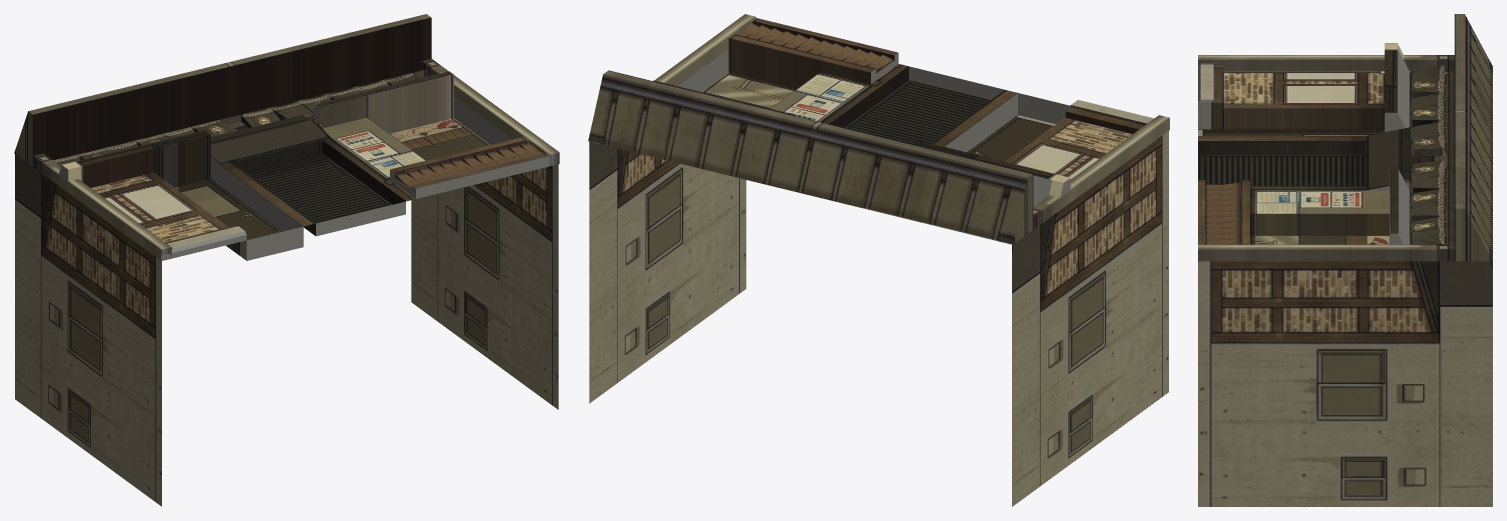
3 views of the same model, side by side, from view 1: azimuth 30°, elevation 25°; view 2: azimuth 150°, elevation 25°; view 3: azimuth 270°, elevation 25° (orthographic). The views are drawn at different scales.
Visible parts, largest first — view 1: Plane.020, Plane, Plane.019, Plane.001, Plane.005, Plane.004, Plane.003, Plane.002; view 2: Plane.020, Plane.001, Plane.019, Plane, Plane.005, Plane.003, Plane.002; view 3: Plane.019, Plane, Plane.005, Plane.001, Plane.004, Plane.002, Plane.003.
Boxes of the visible parts, x1,y1,x2,y2 form: Plane.020: [15, 154, 161, 506]; Plane: [59, 71, 549, 260]; Plane.019: [411, 164, 558, 409]; Plane.001: [14, 14, 431, 166]; Plane.005: [210, 113, 415, 236]; Plane.004: [53, 69, 426, 165]; Plane.003: [33, 153, 171, 260]; Plane.002: [421, 58, 559, 166]; Plane.020: [1012, 131, 1168, 506]; Plane.001: [588, 70, 1033, 244]; Plane.019: [589, 141, 746, 403]; Plane: [653, 18, 1153, 206]; Plane.005: [819, 64, 1017, 146]; Plane.003: [1033, 115, 1169, 229]; Plane.002: [654, 14, 755, 85]; Plane.019: [1198, 261, 1492, 506]; Plane: [1198, 43, 1454, 244]; Plane.005: [1198, 127, 1409, 190]; Plane.001: [1454, 14, 1492, 261]; Plane.004: [1409, 64, 1454, 244]; Plane.002: [1198, 244, 1454, 261]; Plane.003: [1198, 55, 1454, 71].
Size of the model in its own units: 781 by 559 by 500.
16 materials, 16 textured.
